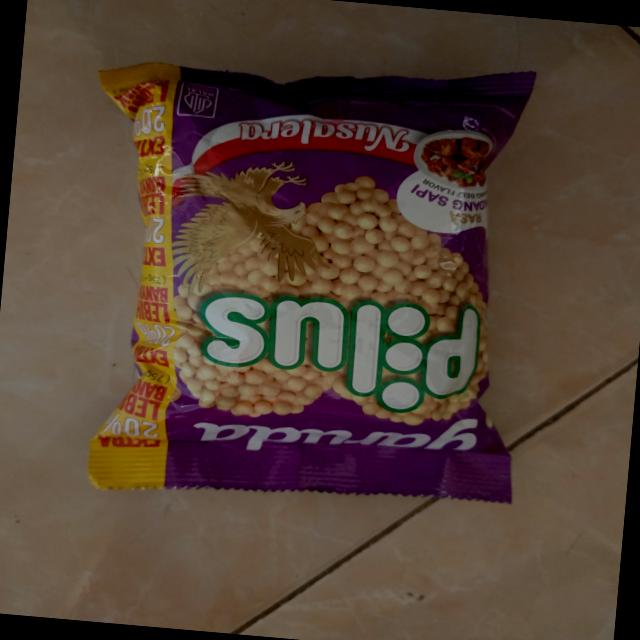pilus-rendang: (56, 34, 552, 524)
